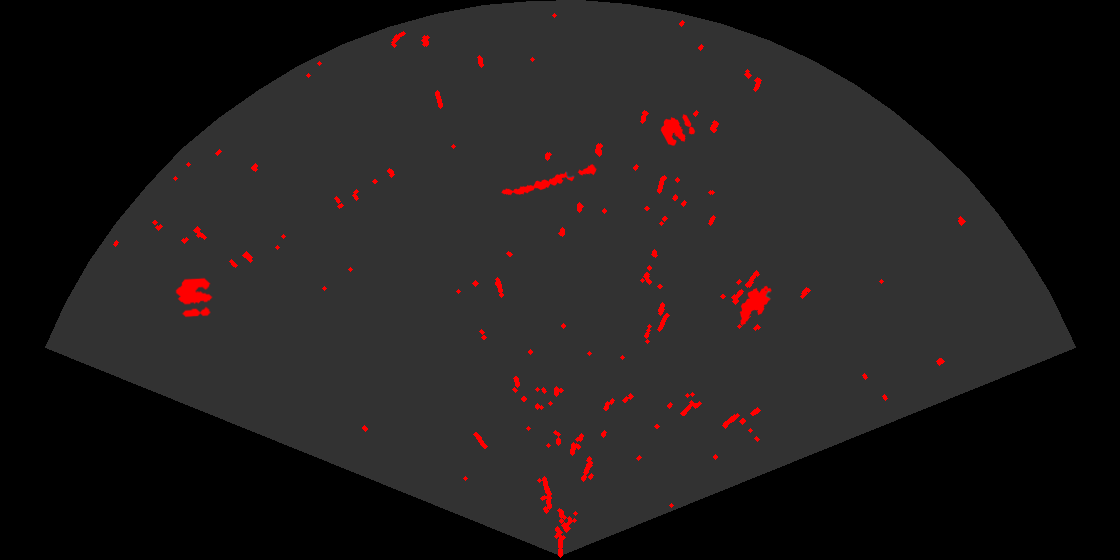AUV: (738, 284, 773, 326)
ball: (174, 276, 214, 319), (659, 113, 697, 147)
chain: (500, 163, 598, 197)
